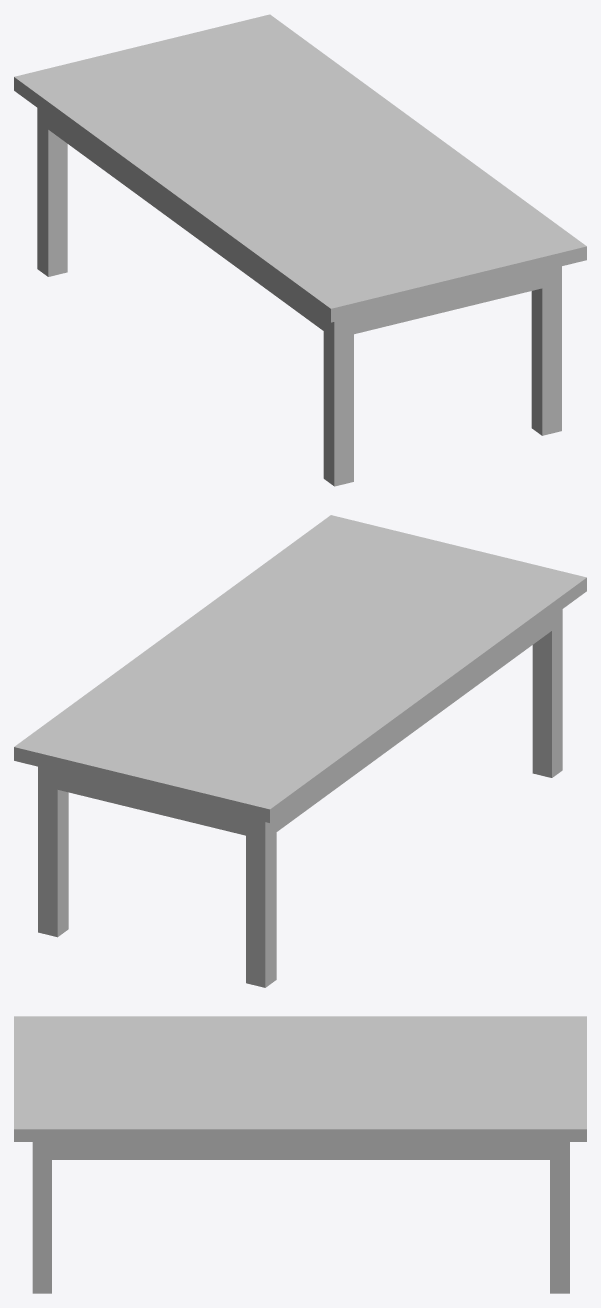
The model's file is avctable.fbx.
The picture shows the model from 3 angles, top to bottom: view 1: azimuth 30°, elevation 25°; view 2: azimuth 150°, elevation 25°; view 3: azimuth 270°, elevation 25°; orthographic projection. The views are drawn at different scales.
Parts seen in each view (by area): view 1: Cube; view 2: Cube; view 3: Cube.
Part boxes in pixels (x1,y1,x2,y2): Cube: (14,14,586,486); Cube: (14,515,586,987); Cube: (14,1016,586,1293).
Bounding box in the file's own units: 93.28 × 65.7 × 200.
